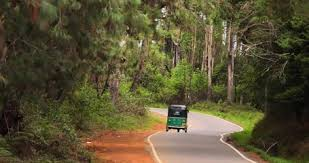tuk tuk: (164, 103, 190, 134)
